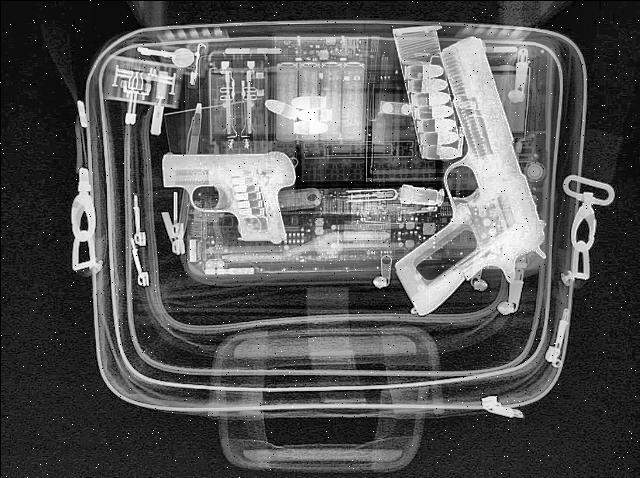Gun: (389, 32, 553, 316), (156, 149, 302, 241)
